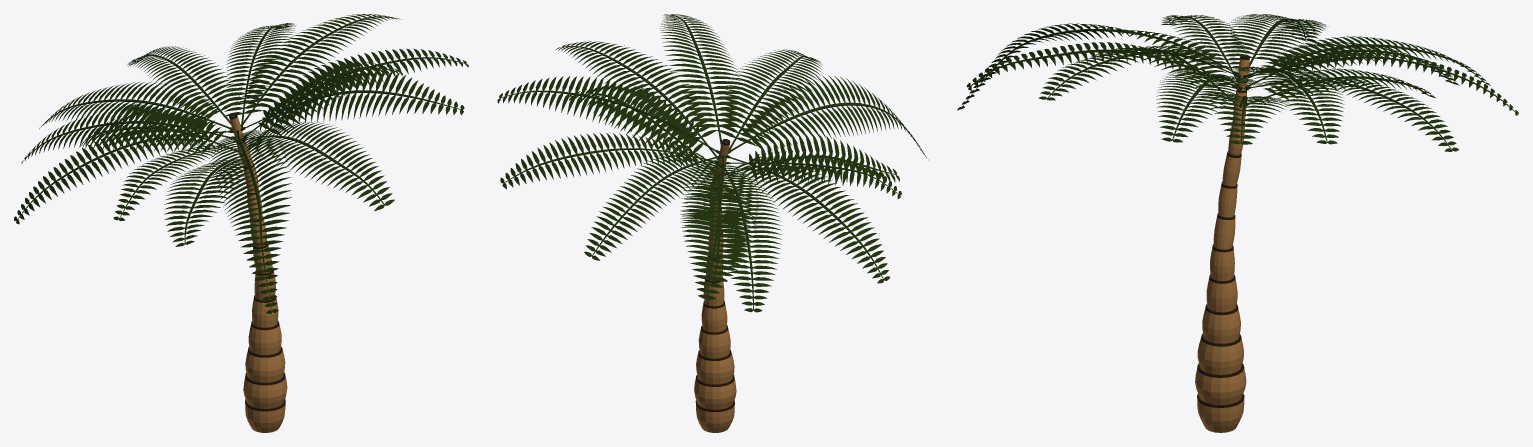
File: Palm-Tree-01.obj
The picture shows the model from 3 angles, left to right: view 1: azimuth 30°, elevation 25°; view 2: azimuth 150°, elevation 25°; view 3: azimuth 270°, elevation 25°; orthographic projection. The views are drawn at different scales.
Parts seen in each view (by area): view 1: Trunk_Circle, Leaf.003_Cube, Leaf.004_Cube, Leaf.006_Cube, Leaf.001_Cube, Leaf.002_Cube, Leaf.010_Cube, Leaf_Cube, Leaf.005_Cube, Leaf.009_Cube, Leaf.013_Cube, Leaf.008_Cube (+3 smaller); view 2: Trunk_Circle, Leaf.010_Cube, Leaf.003_Cube, Leaf.002_Cube, Leaf.004_Cube, Leaf.001_Cube, Leaf_Cube, Leaf.009_Cube, Leaf.005_Cube, Leaf.006_Cube, Leaf.008_Cube, Leaf.007_Cube (+3 smaller); view 3: Trunk_Circle, Leaf.001_Cube, Leaf.005_Cube, Leaf.002_Cube, Leaf.003_Cube, Leaf.008_Cube, Leaf.006_Cube, Leaf.010_Cube, Leaf.004_Cube, Leaf.007_Cube, Leaf_Cube, Leaf.012_Cube (+3 smaller).
Part boxes in pixels (x1,y1,x2,y2): Trunk_Circle: (229, 113, 287, 432); Leaf.003_Cube: (209, 130, 291, 313); Leaf.004_Cube: (240, 66, 464, 130); Leaf.006_Cube: (240, 121, 394, 211); Leaf.001_Cube: (240, 14, 401, 127); Leaf.002_Cube: (14, 124, 233, 224); Leaf.010_Cube: (39, 81, 232, 129); Leaf_Cube: (127, 46, 240, 124); Leaf.005_Cube: (243, 48, 468, 137); Leaf.009_Cube: (21, 103, 235, 163); Leaf.013_Cube: (164, 154, 251, 246); Leaf.008_Cube: (223, 23, 295, 127); Trunk_Circle: (694, 139, 736, 432); Leaf.010_Cube: (681, 155, 758, 299); Leaf.003_Cube: (728, 75, 928, 160); Leaf.002_Cube: (725, 155, 889, 283); Leaf.004_Cube: (660, 14, 743, 145); Leaf.001_Cube: (497, 76, 719, 153); Leaf_Cube: (584, 150, 721, 260); Leaf.009_Cube: (701, 163, 781, 312); Leaf.005_Cube: (556, 41, 718, 160); Leaf.006_Cube: (716, 49, 822, 150); Leaf.008_Cube: (500, 133, 718, 189); Leaf.007_Cube: (725, 150, 901, 198); Trunk_Circle: (1195, 55, 1249, 432); Leaf.001_Cube: (1230, 66, 1344, 144); Leaf.005_Cube: (1156, 70, 1260, 142); Leaf.002_Cube: (1225, 14, 1328, 66); Leaf.003_Cube: (957, 23, 1238, 110); Leaf.008_Cube: (1244, 77, 1458, 151); Leaf.006_Cube: (966, 42, 1237, 90); Leaf.010_Cube: (1249, 36, 1490, 85); Leaf.004_Cube: (1038, 48, 1240, 100); Leaf.007_Cube: (1161, 15, 1246, 80); Leaf_Cube: (1248, 51, 1518, 115); Leaf.012_Cube: (1201, 92, 1288, 144).
Size of the model in its own units: 16.54 by 14.38 by 17.59.
